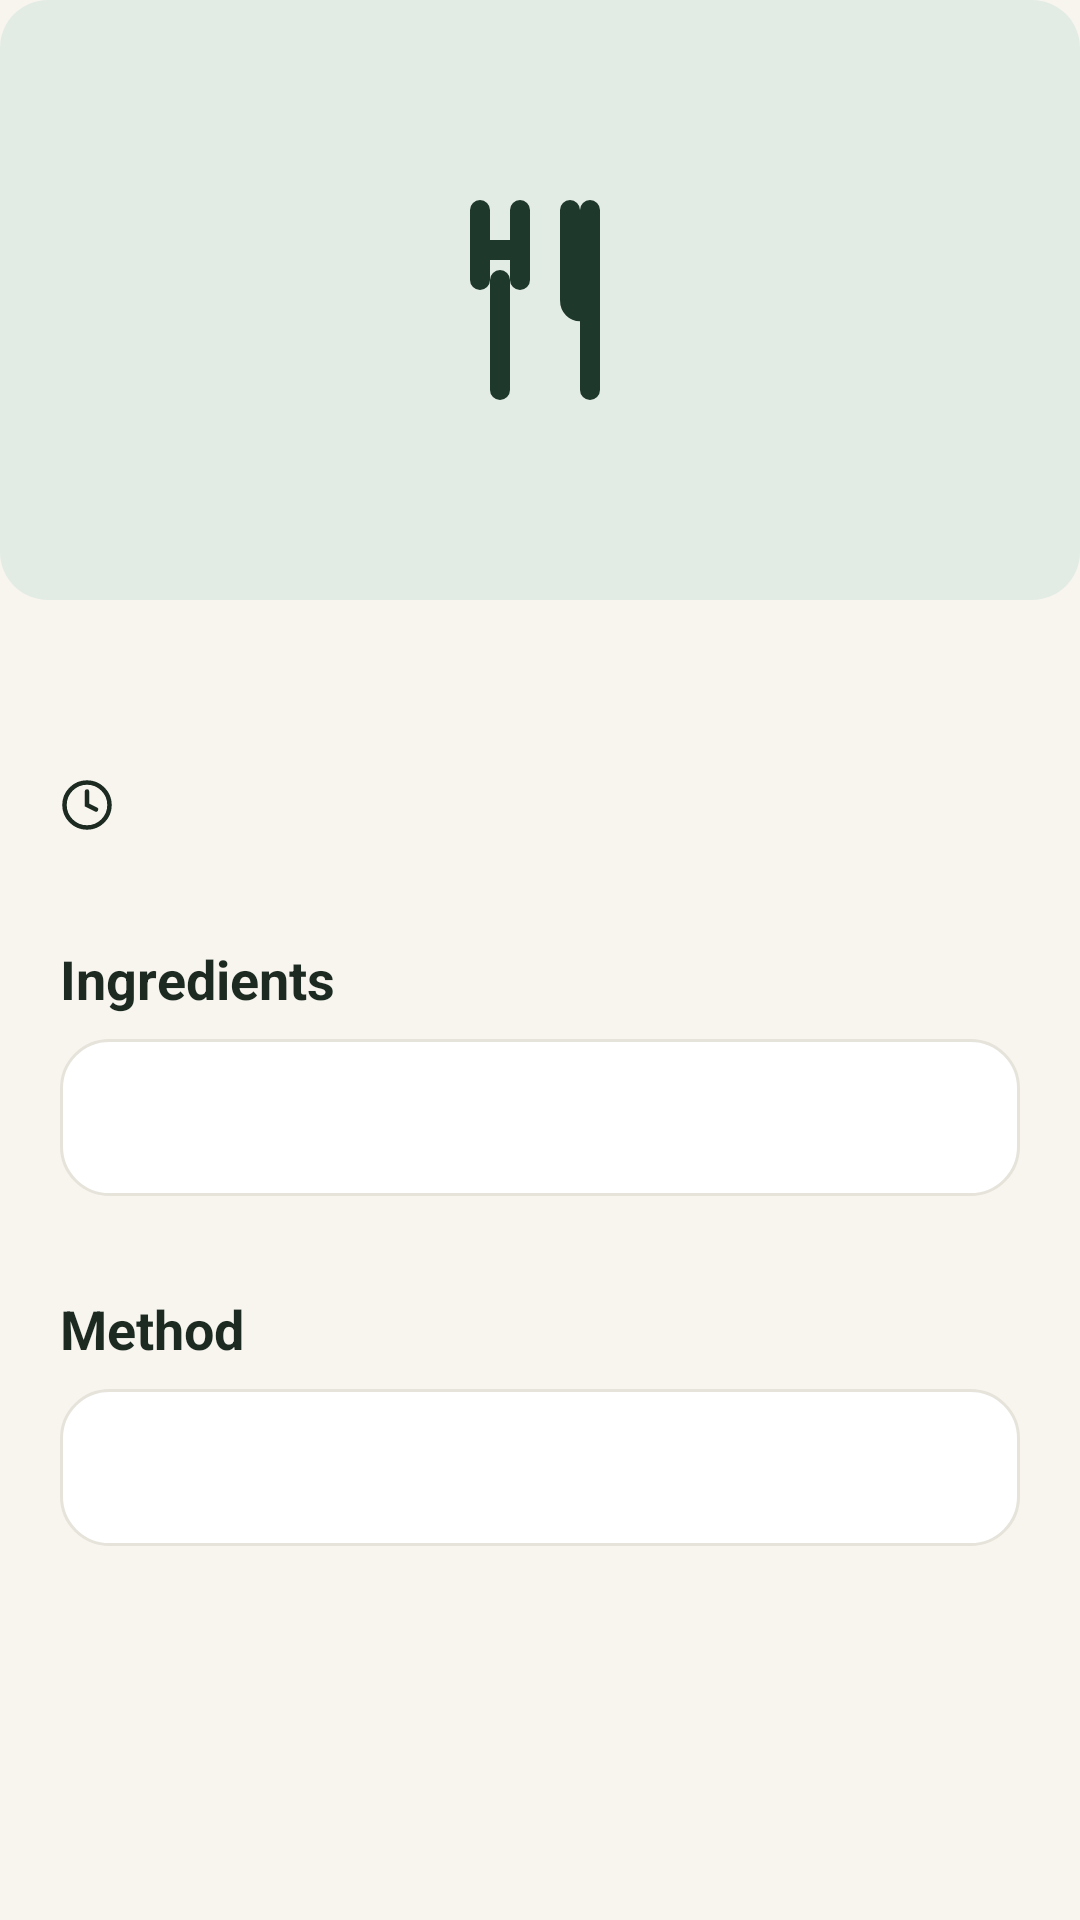

Icon click points for this 1080 × 1920 phone screenshot, format [x,y]:
clock: [87,805]
recipes: [535,300]
